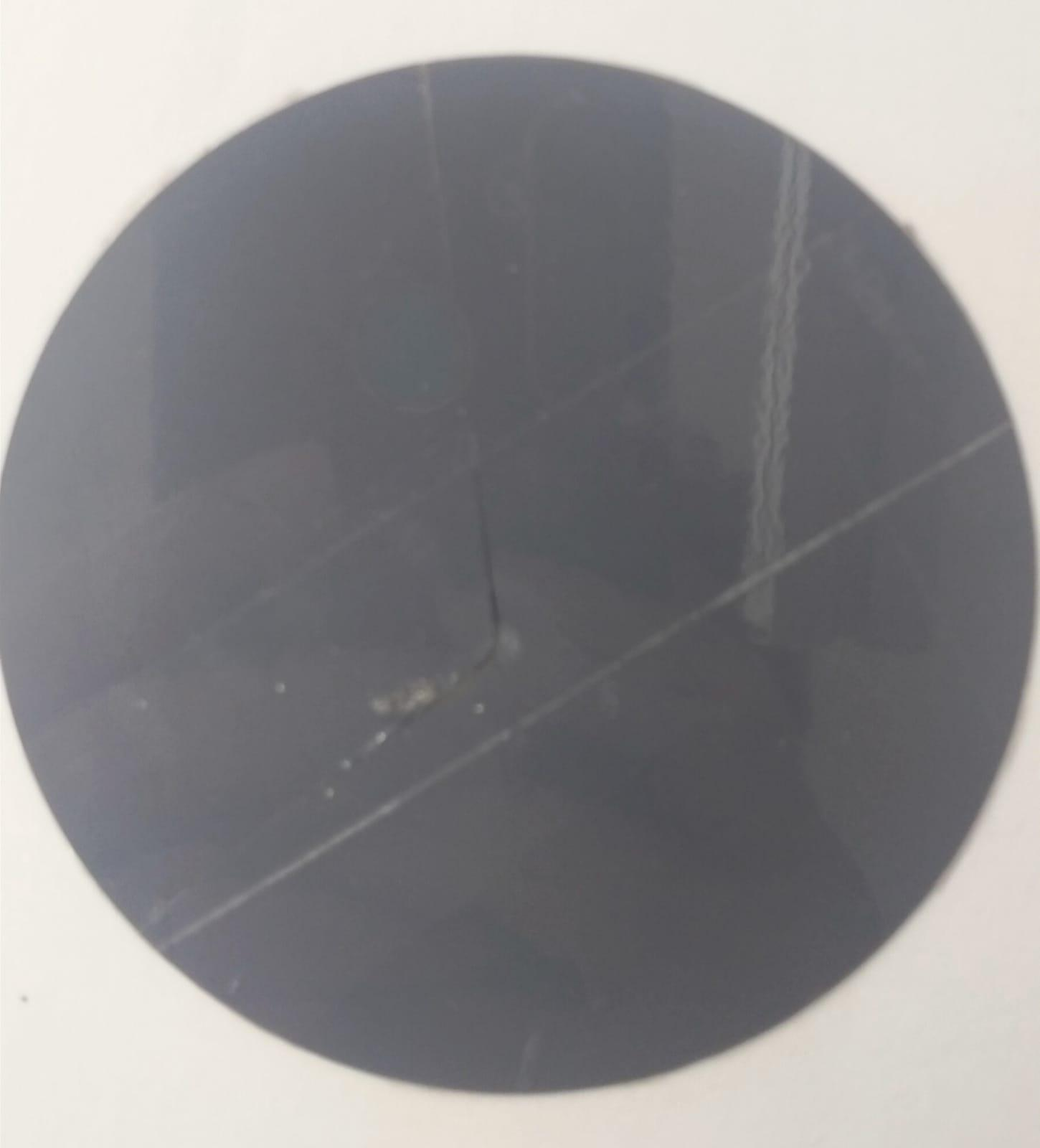crack: (152, 412, 1010, 958)
scratch: (386, 663, 453, 731), (475, 611, 537, 679)
